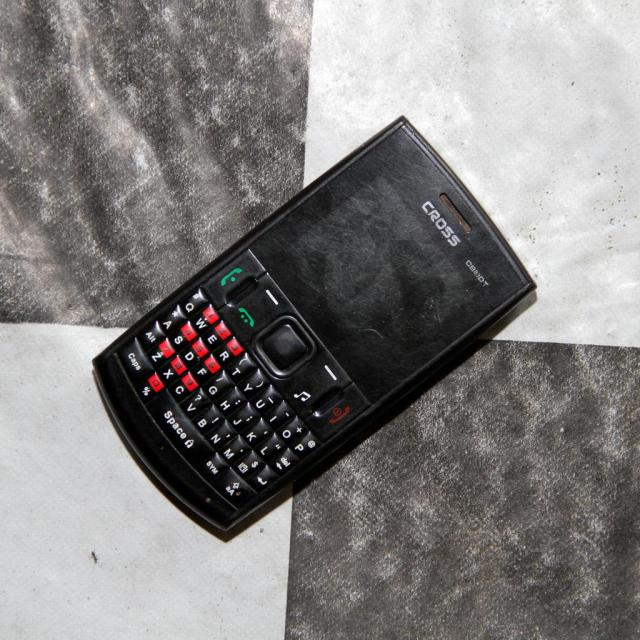Phone: (93, 111, 535, 544)
